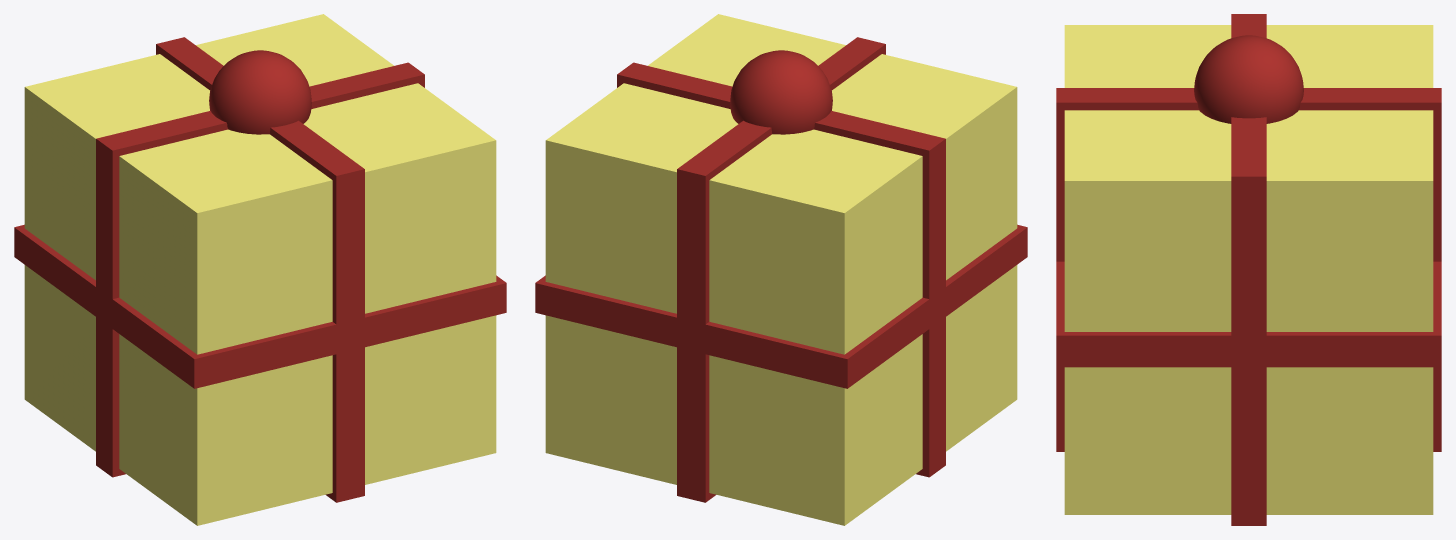
The model's file is presentBox.glb.
3 renders of one model, left to right at view 1: azimuth 30°, elevation 25°; view 2: azimuth 150°, elevation 25°; view 3: azimuth 270°, elevation 25°, orthographic. The views are drawn at different scales.
Visible parts, largest first — view 1: Cube; view 2: Cube; view 3: Cube.
Part boxes in pixels (<box>): Cube: <box>14,14,506,525</box>; Cube: <box>535,14,1027,525</box>; Cube: <box>1056,14,1441,525</box>.
Bounding box in the file's own units: 3.5 × 4.05 × 3.5.
